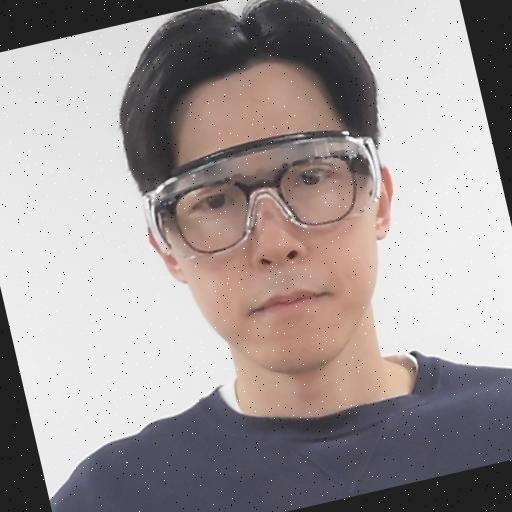glasses: (93, 0, 434, 394)
